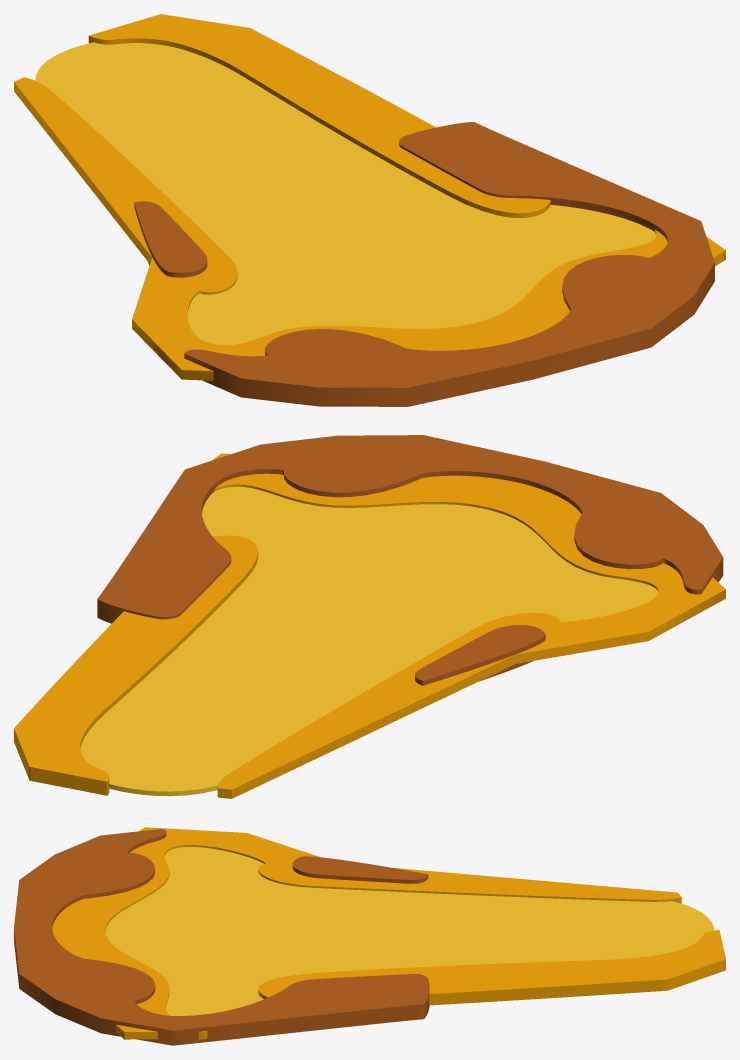
The model's file is emoji_u1f443.glb.
3 renders of one model, top to bottom at view 1: azimuth 30°, elevation 25°; view 2: azimuth 150°, elevation 25°; view 3: azimuth 270°, elevation 25°, orthographic. The views are drawn at different scales.
Visible parts, largest first — view 1: emoji_u1f443; view 2: emoji_u1f443; view 3: emoji_u1f443.
Boxes of the visible parts, x1=… form: emoji_u1f443: x1=14, y1=14, x2=725, y2=406; emoji_u1f443: x1=14, y1=435, x2=725, y2=798; emoji_u1f443: x1=14, y1=827, x2=725, y2=1045.
Bounding box in the file's own units: 0.0236 × 0.0008 × 0.0343.
